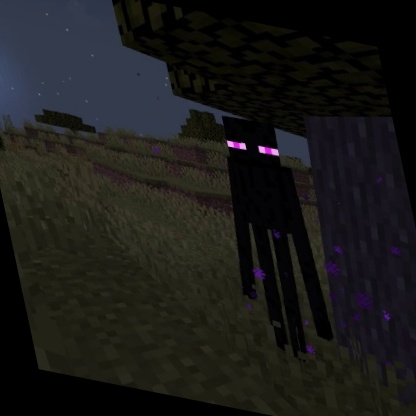enderman: (198, 106, 344, 373)
